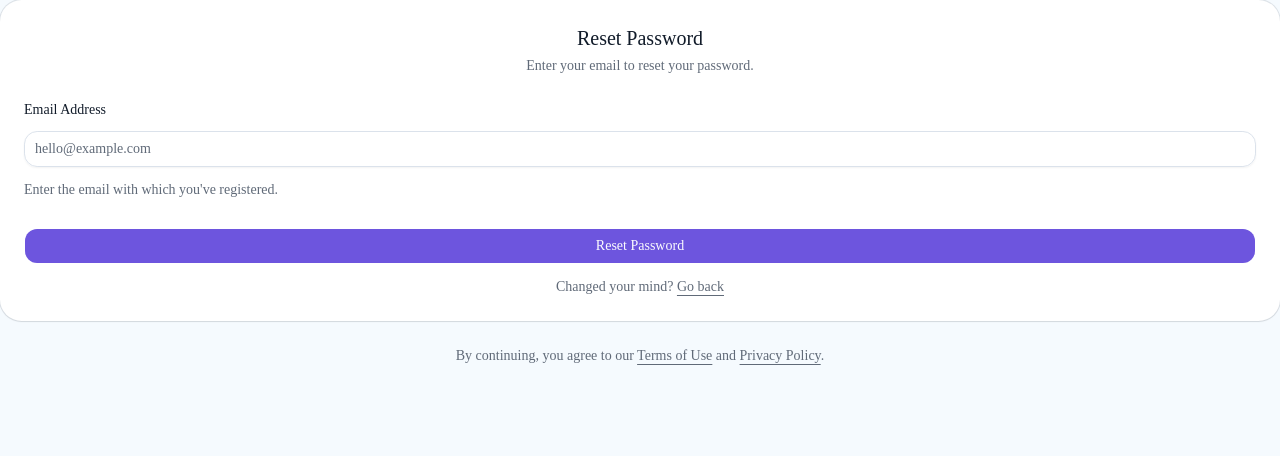
Test: ForgotPasswordForm › shows a destructive alert when the action fails
Type "user@example.com" into the field labelled "Email Address" at point(640, 149), box left=24, top=131, right=1256, bottom=167
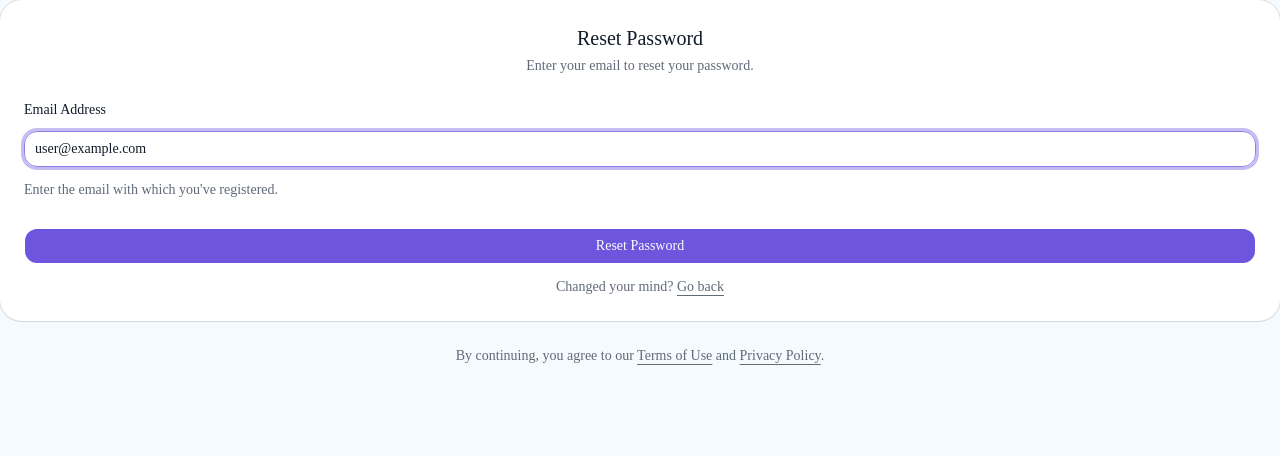
Click the button "Reset Password" at point(640, 246), box left=24, top=228, right=1256, bottom=264
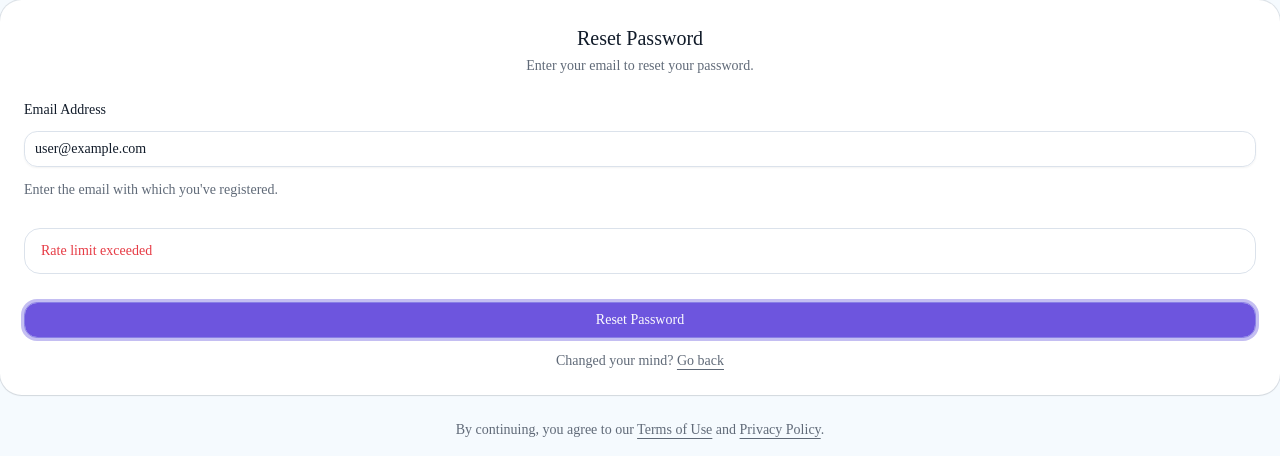
Check: the message "Rate limit exceeded" is shown, box left=24, top=228, right=1256, bottom=274
Check: the message reads "Rate limit exceeded", box left=41, top=243, right=152, bottom=258
